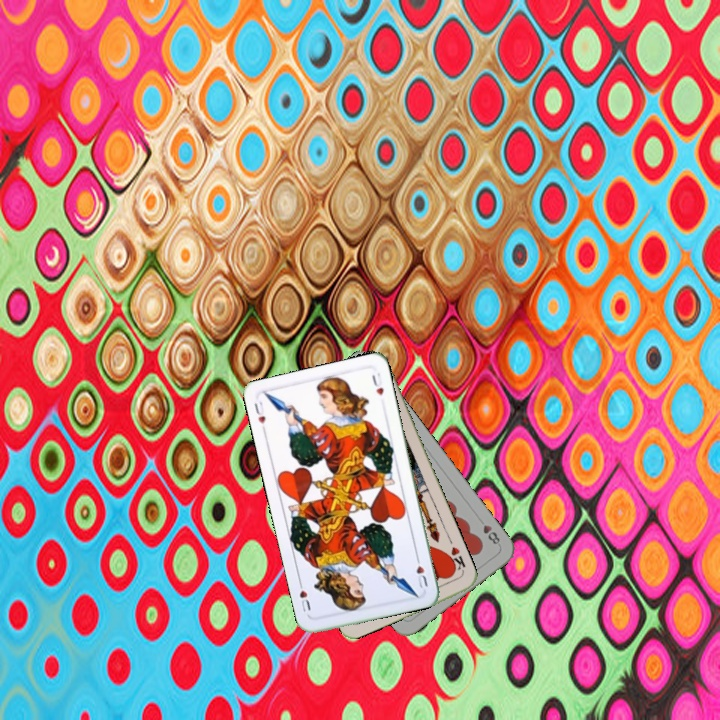H8: (474, 514, 503, 547)
HK: (442, 543, 468, 576)
HU: (412, 551, 430, 591), (250, 398, 268, 427)
